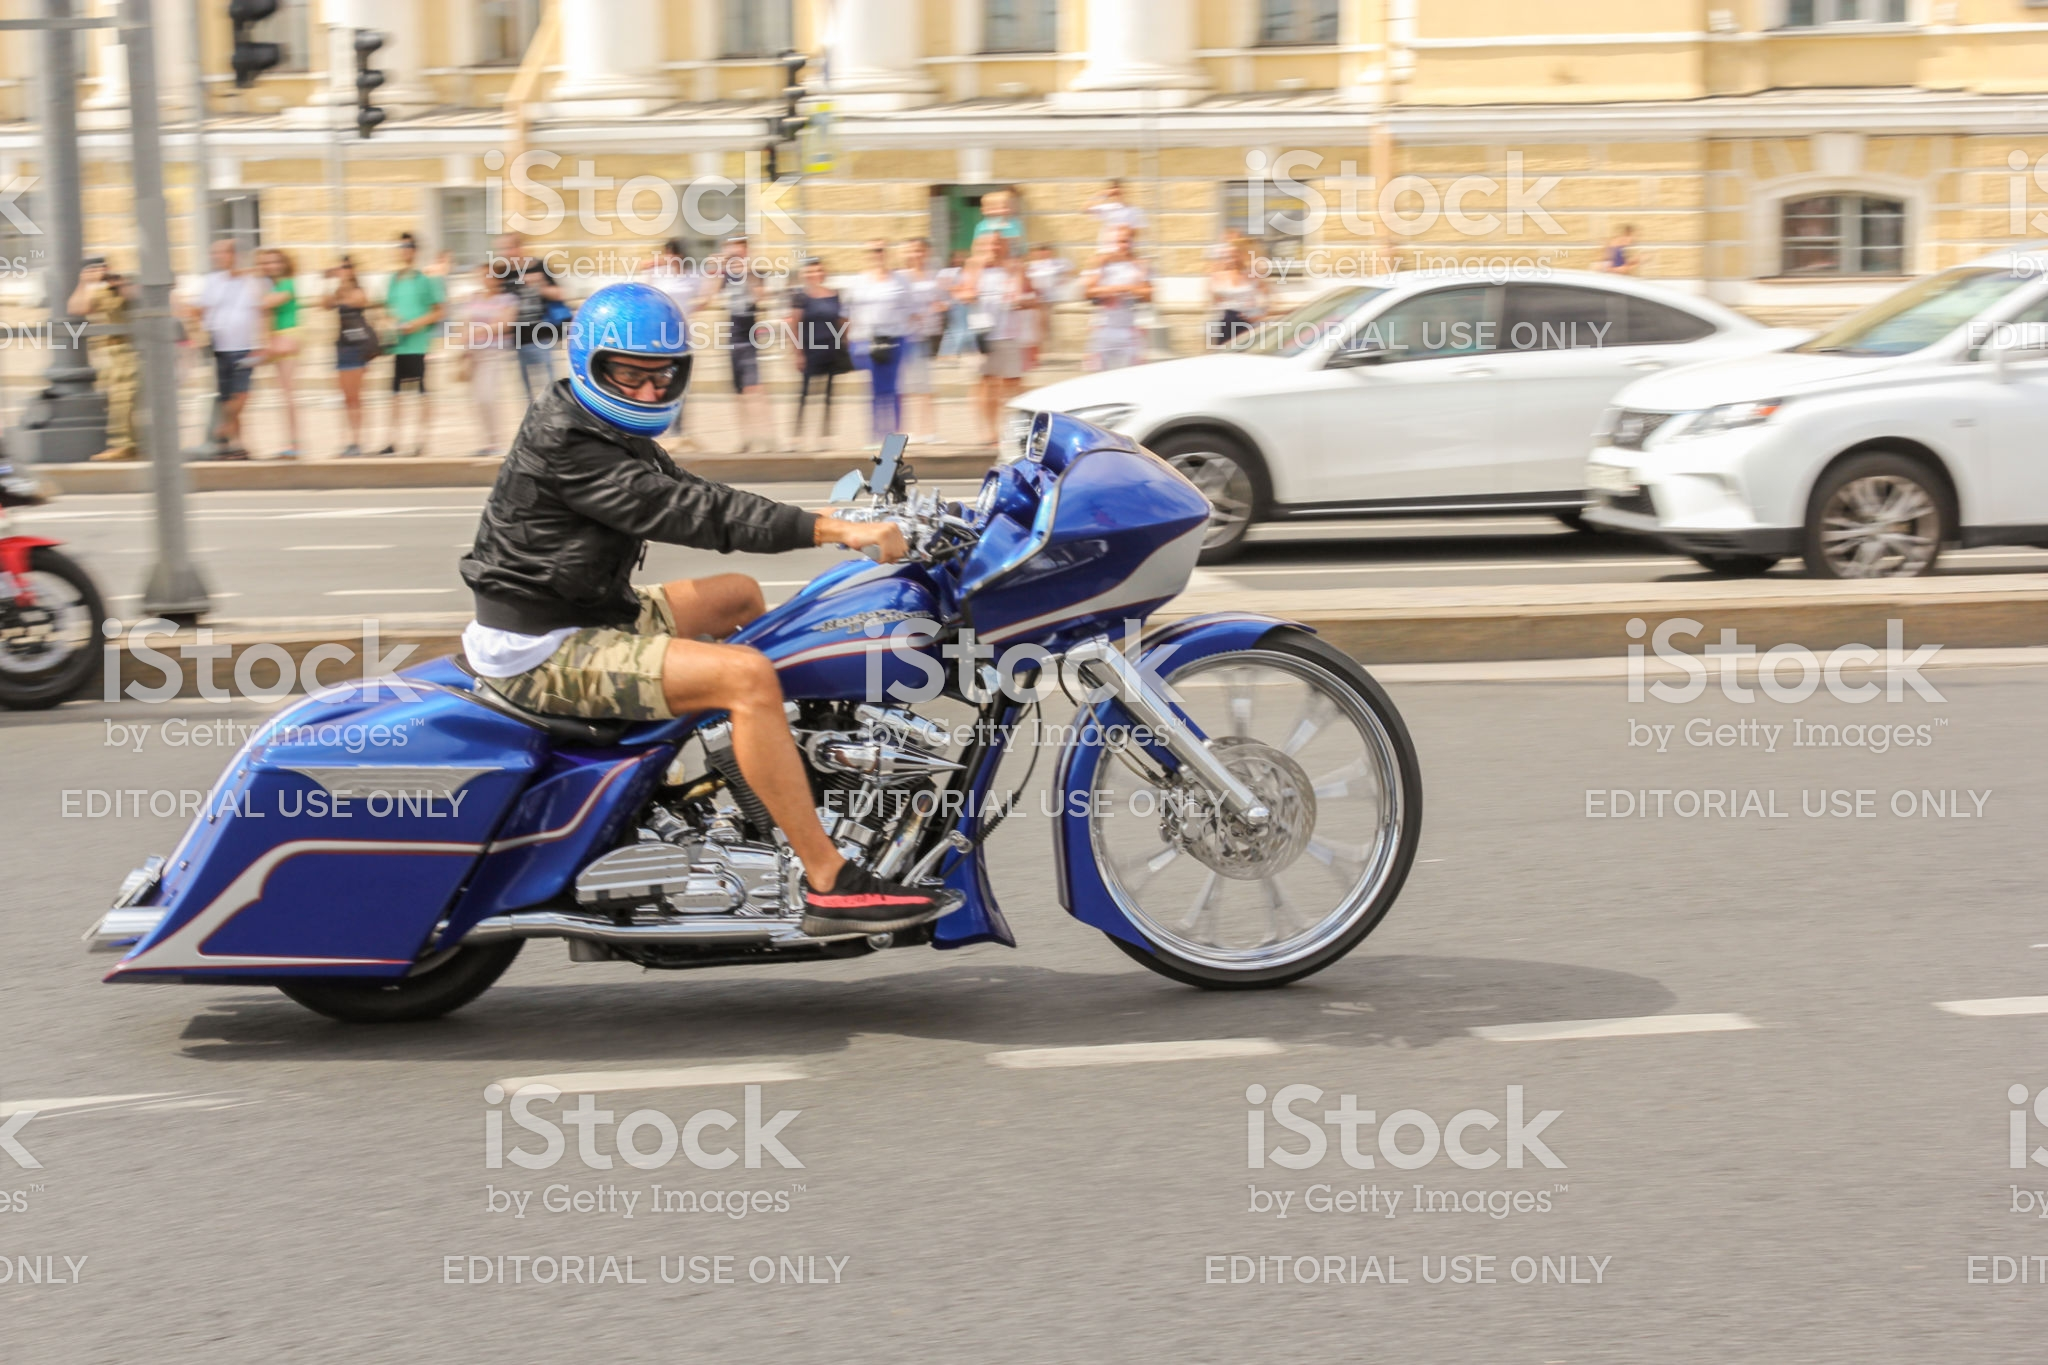helmet: (563, 294, 707, 454)
